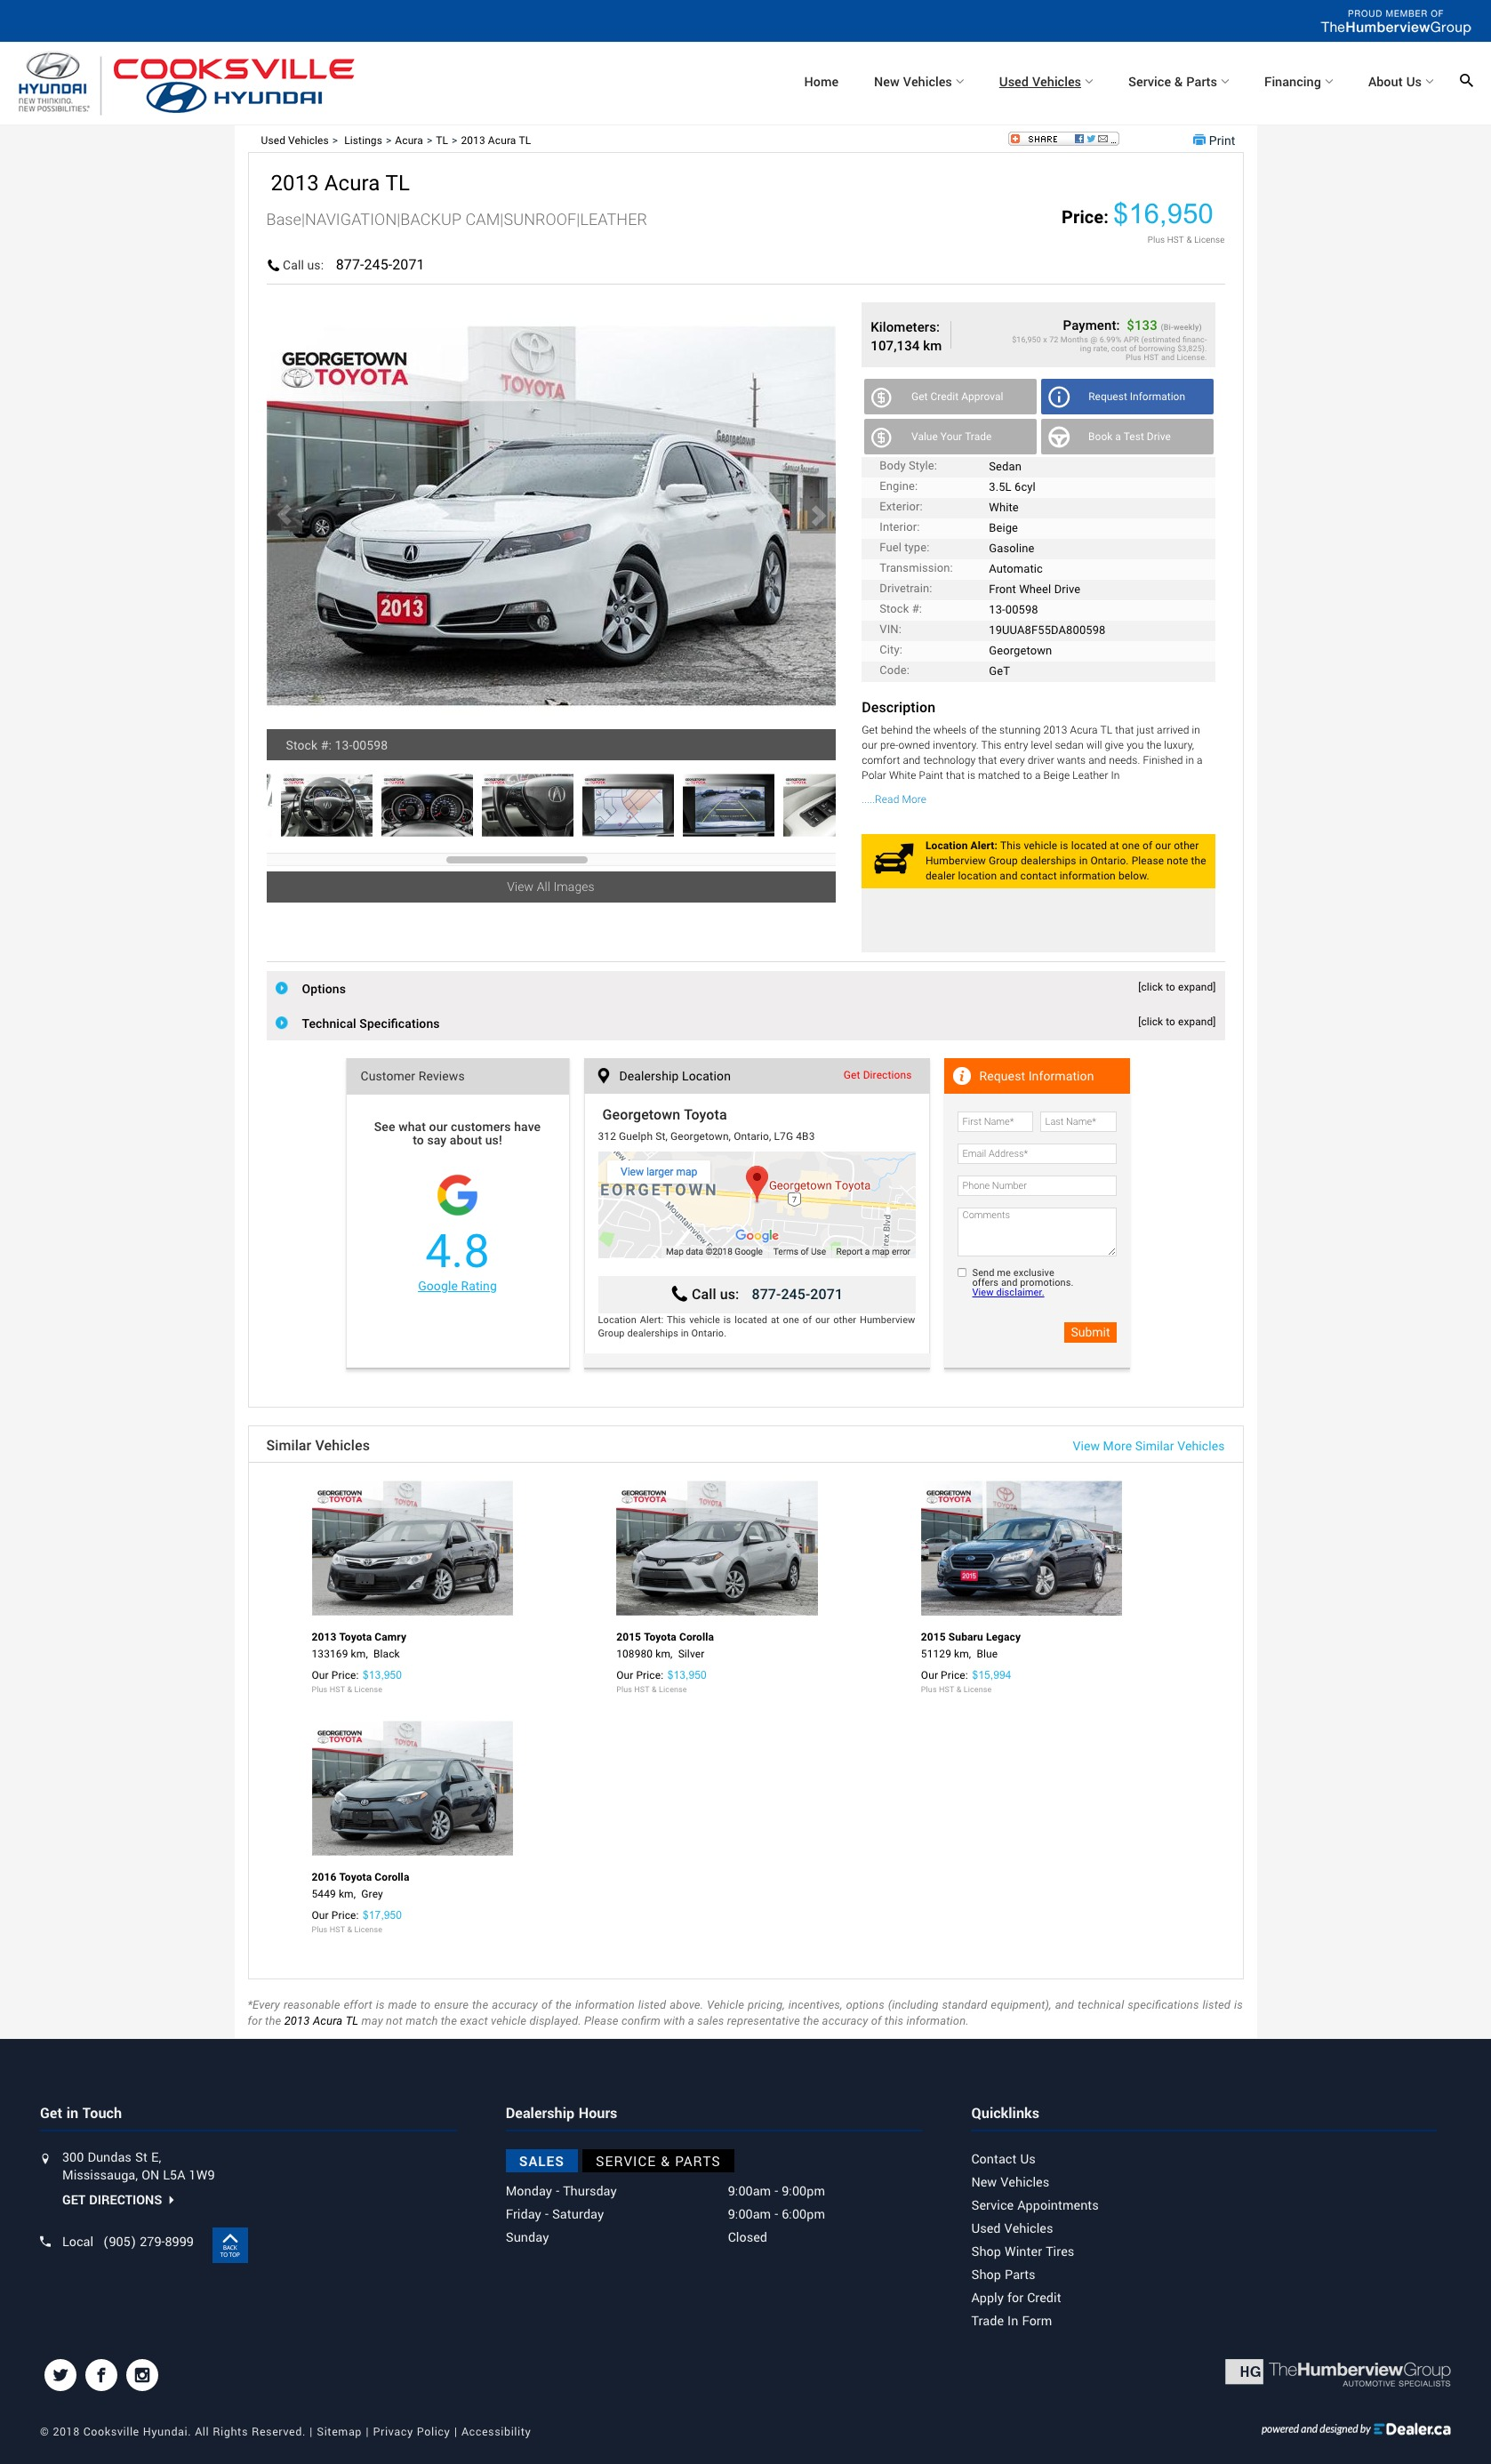car: (799, 498, 838, 535)
